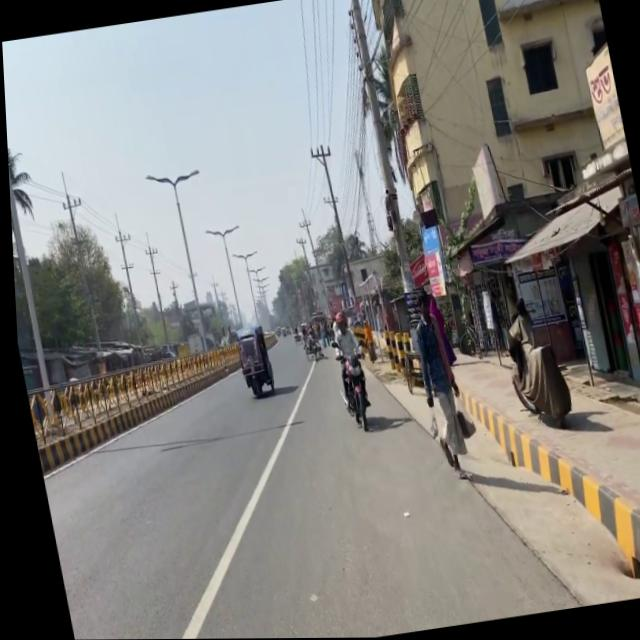Construction-barrier: (513, 416, 640, 592)
Fallen-tree: (325, 338, 374, 435), (297, 332, 322, 363), (290, 333, 298, 344)
Garbage: (487, 301, 581, 433), (228, 324, 273, 400), (397, 350, 424, 395)
Garbage-bin: (401, 288, 473, 483)
Light-pole: (2, 45, 55, 426)
Pole: (16, 329, 253, 469)
Pothole: (352, 303, 640, 630)
